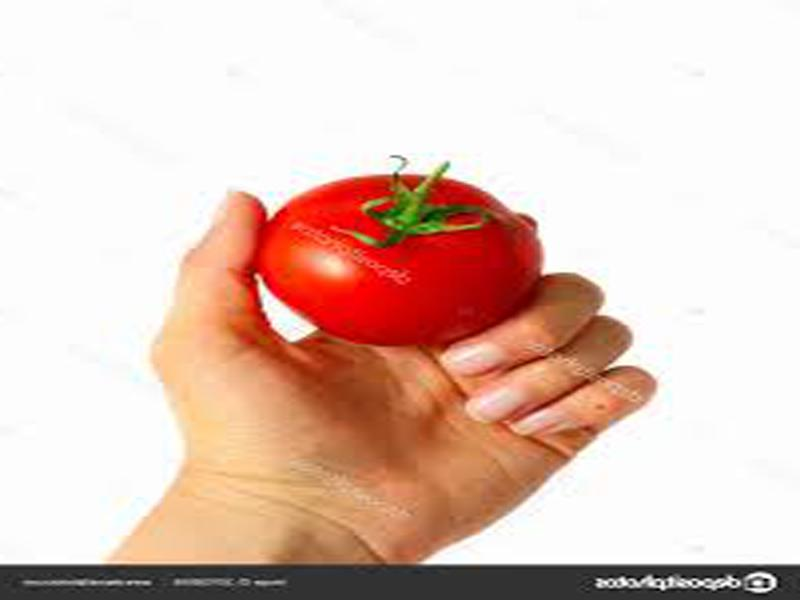Tomato: (258, 172, 536, 347)
